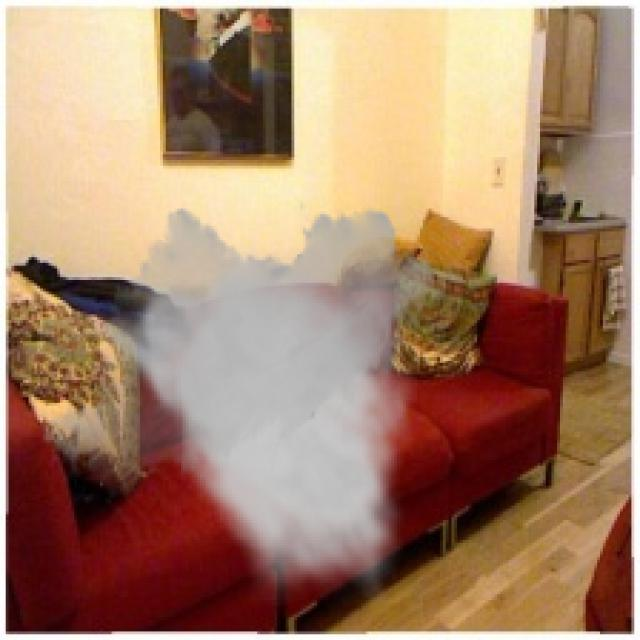smoke: (40, 197, 449, 606)
